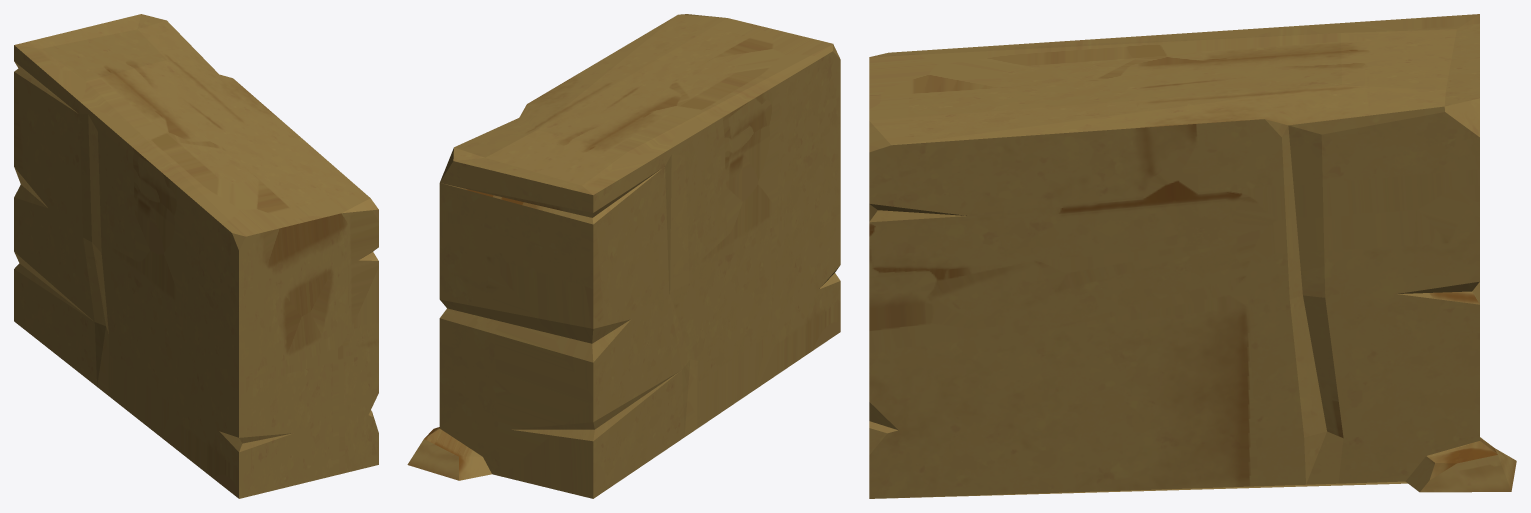
The model's file is Tunisia_Wall_A.fbx.
The picture shows the model from 3 angles, left to right: view 1: azimuth 30°, elevation 25°; view 2: azimuth 150°, elevation 25°; view 3: azimuth 270°, elevation 25°; orthographic projection. The views are drawn at different scales.
Visible parts, largest first — view 1: Tunisia_Wall_A; view 2: Tunisia_Wall_A; view 3: Tunisia_Wall_A.
Boxes of the visible parts, x1,y1,x2,y2 form: Tunisia_Wall_A: [14, 14, 378, 498]; Tunisia_Wall_A: [407, 14, 840, 498]; Tunisia_Wall_A: [869, 14, 1516, 498].
Bounding box in the file's own units: 134 × 235 × 351.
